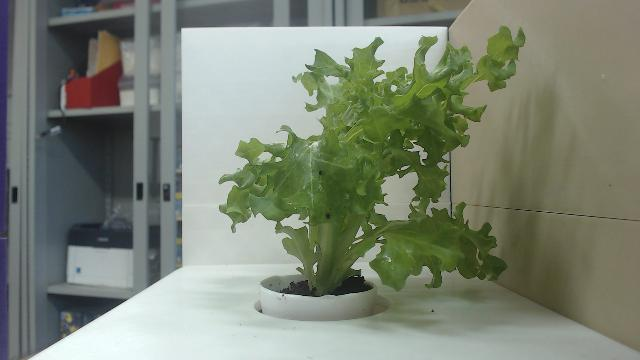Harvest Stage: (218, 23, 526, 294)
